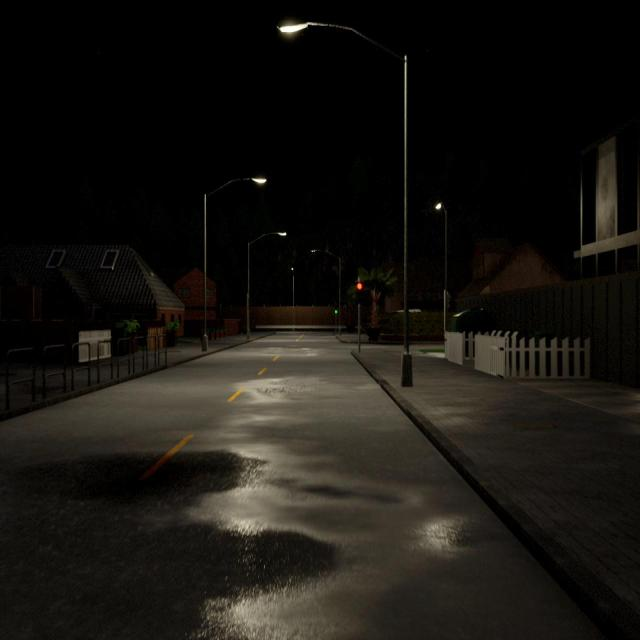traffic_light: (356, 282, 363, 304), (334, 305, 338, 314)
